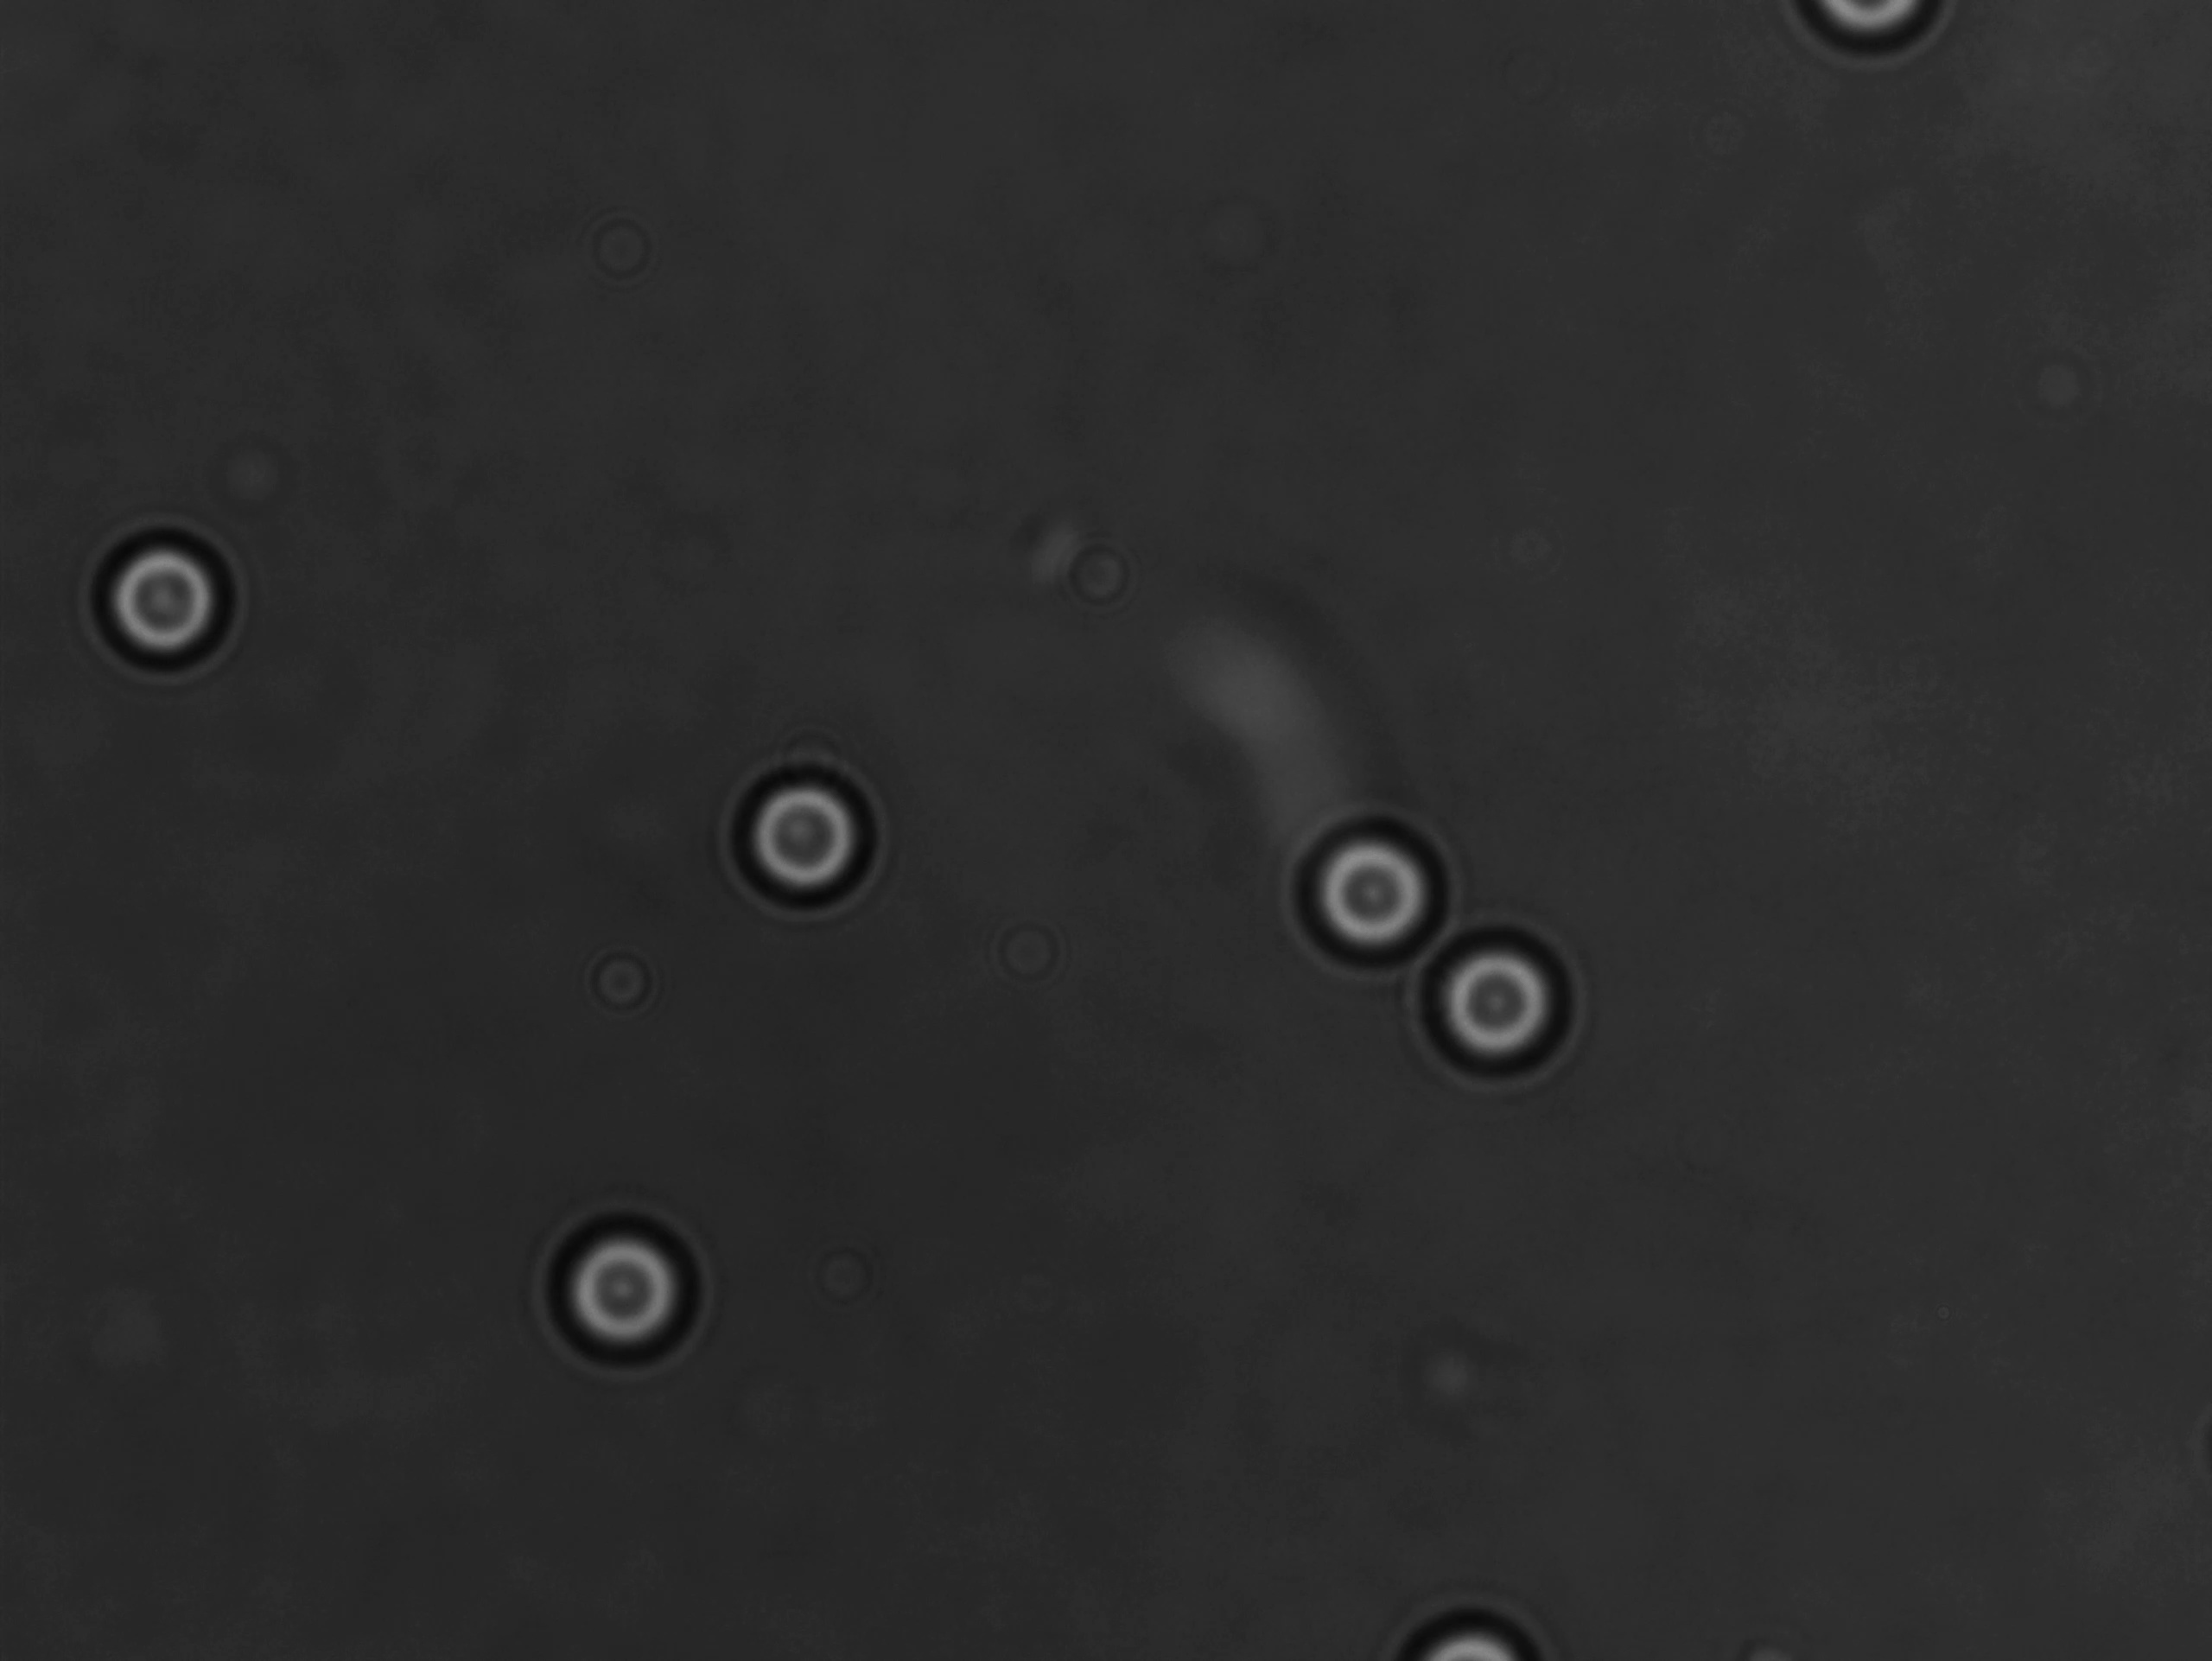depth:20: (715, 743, 909, 926), (1277, 803, 1465, 989), (1399, 907, 1579, 1089), (541, 1197, 722, 1366), (87, 509, 253, 679)
